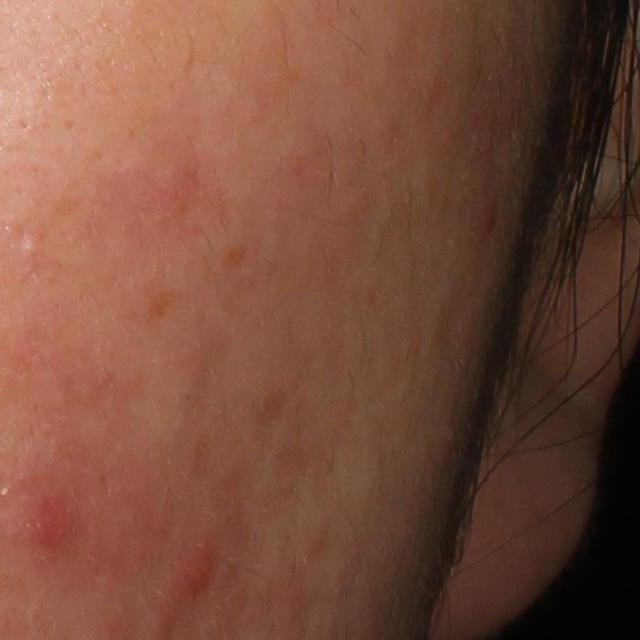comedo: (18, 236, 43, 259)
papule: (18, 483, 81, 553), (170, 544, 215, 596), (482, 201, 500, 232)
